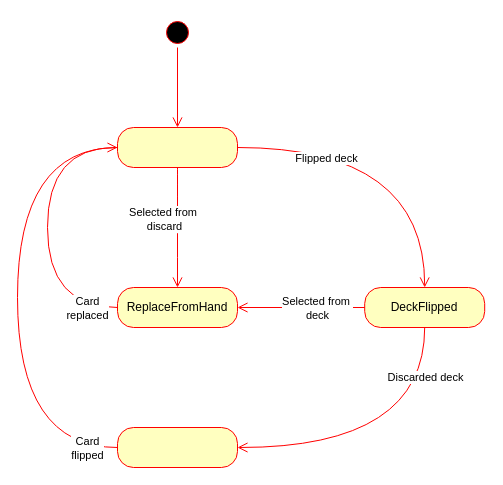
Some shapes in this 503 by 485 pixel diagram are drawn without their labels. Each missing label, with the centre of its shape:
"FlipFromHand" goes at (x=177, y=447).
"SelectFromPile" goes at (x=177, y=147).
